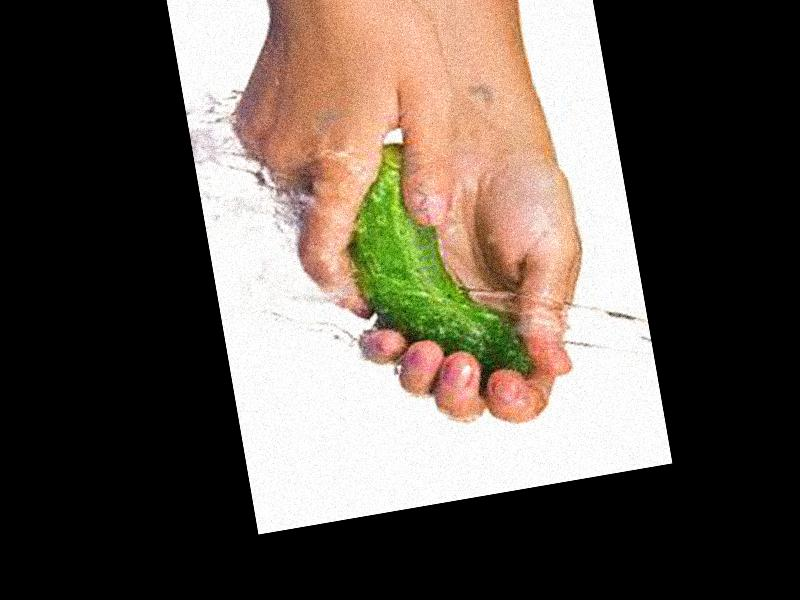Cucumber: (329, 124, 533, 402)
